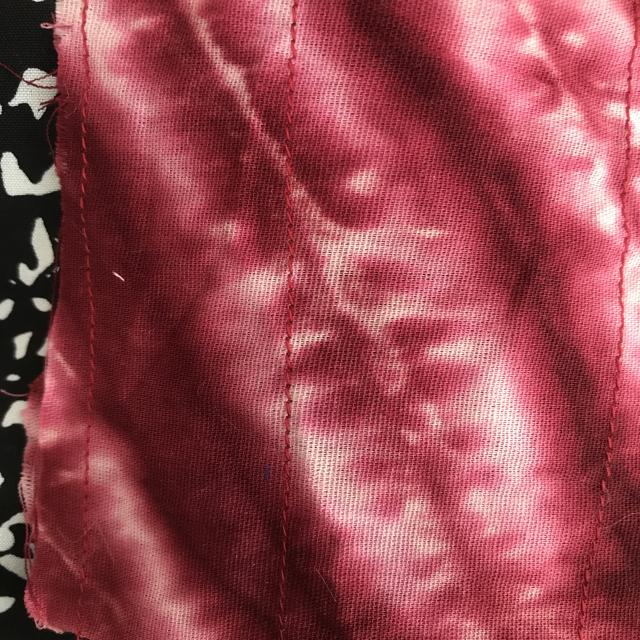good: (274, 322, 304, 446), (273, 533, 295, 608)
